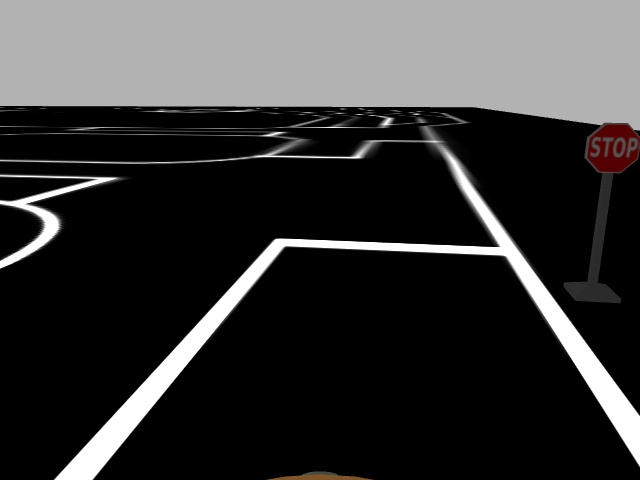stop: (582, 120, 640, 176)
